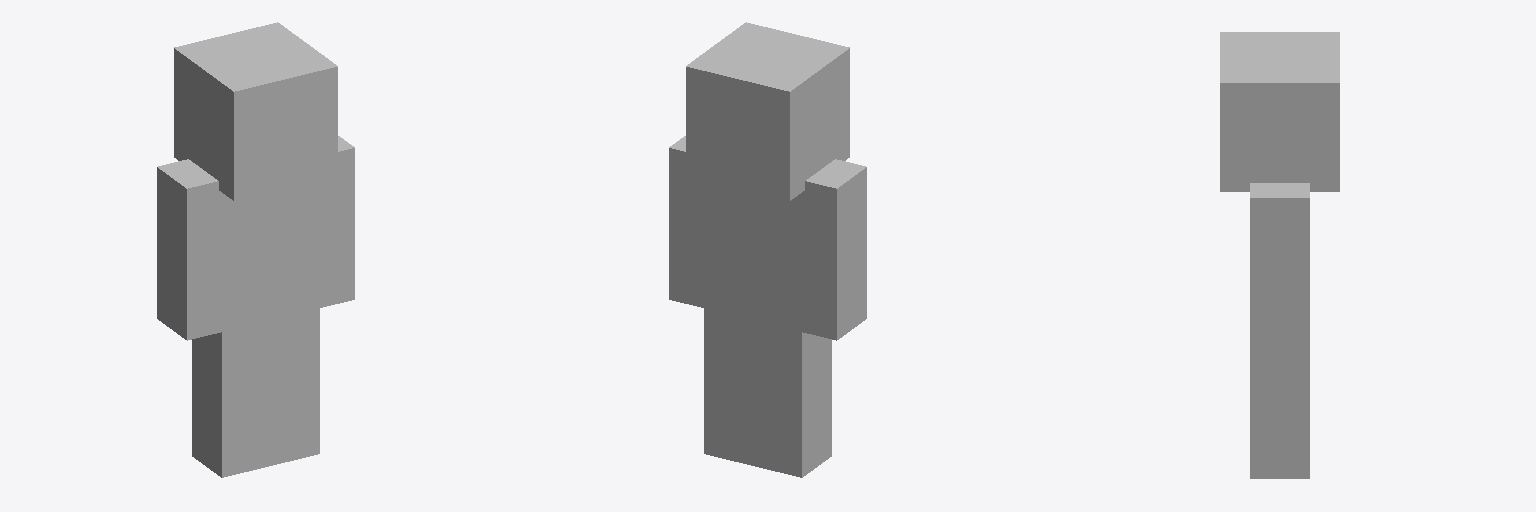
The model's file is player_slim.obj.
3 views of the same model, side by side, from view 1: azimuth 30°, elevation 25°; view 2: azimuth 150°, elevation 25°; view 3: azimuth 270°, elevation 25° (orthographic).
Parts seen in each view (by area): view 1: headwear, jacket, left_sleve, left_pants, right_pants, right_sleve; view 2: headwear, jacket, left_sleve, left_pants, right_pants, right_sleve; view 3: headwear, right_sleve, right_pants.
Part boxes in pixels (x1,y1,x2,y2): headwear: (174,22,337,200); jacket: (222,180,319,330); left_sleve: (157,159,227,340); left_pants: (192,315,273,477); right_pants: (268,304,319,466); right_sleve: (315,136,354,308); headwear: (686,22,849,200); jacket: (704,181,801,329); left_sleve: (796,159,866,340); left_pants: (750,315,831,477); right_pants: (704,305,755,466); right_sleve: (669,136,708,308); headwear: (1220,32,1339,191); right_sleve: (1250,183,1309,349); right_pants: (1250,350,1309,478).
Bounding box in the file's own units: 0.9062 × 2.05 × 0.5625.